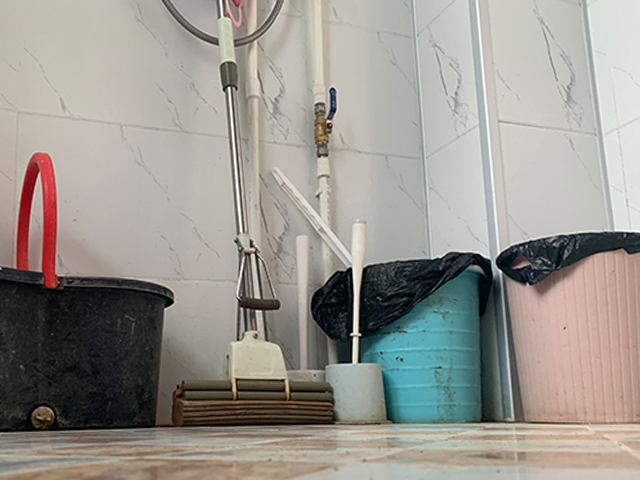trashcan: (496, 231, 640, 426), (343, 251, 491, 423)
